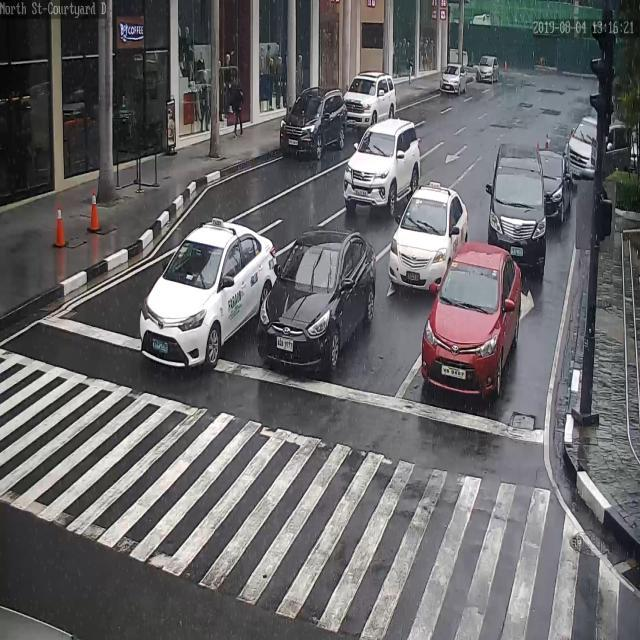car: (141, 222, 277, 371), (257, 230, 377, 378), (421, 241, 525, 403), (389, 184, 471, 295), (343, 117, 422, 216), (279, 86, 348, 157), (344, 72, 397, 127), (538, 144, 570, 226), (440, 62, 472, 94), (475, 53, 502, 83)
van: (487, 142, 549, 273), (565, 115, 631, 180)
